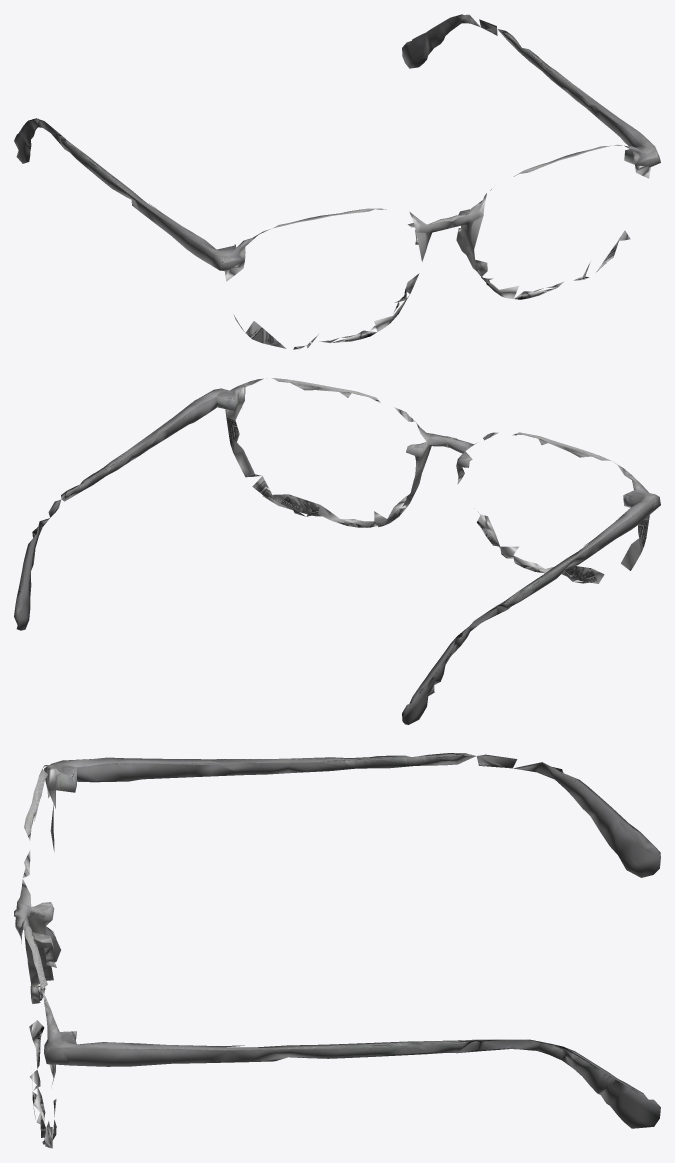
File: head_accessory__0_075-.glb
The picture shows the model from 3 angles, top to bottom: view 1: azimuth 30°, elevation 25°; view 2: azimuth 150°, elevation 25°; view 3: azimuth 270°, elevation 25°; orthographic projection. The views are drawn at different scales.
Parts seen in each view (by area): view 1: geometry_0_075; view 2: geometry_0_075; view 3: geometry_0_075.
Boxes of the visible parts, bbox=[...] form: geometry_0_075: bbox=[14, 14, 660, 349]; geometry_0_075: bbox=[14, 378, 660, 724]; geometry_0_075: bbox=[14, 753, 660, 1148].
Bounding box in the file's own units: 0.7684 × 0.2157 × 0.7228.
1 material, 1 textured.
